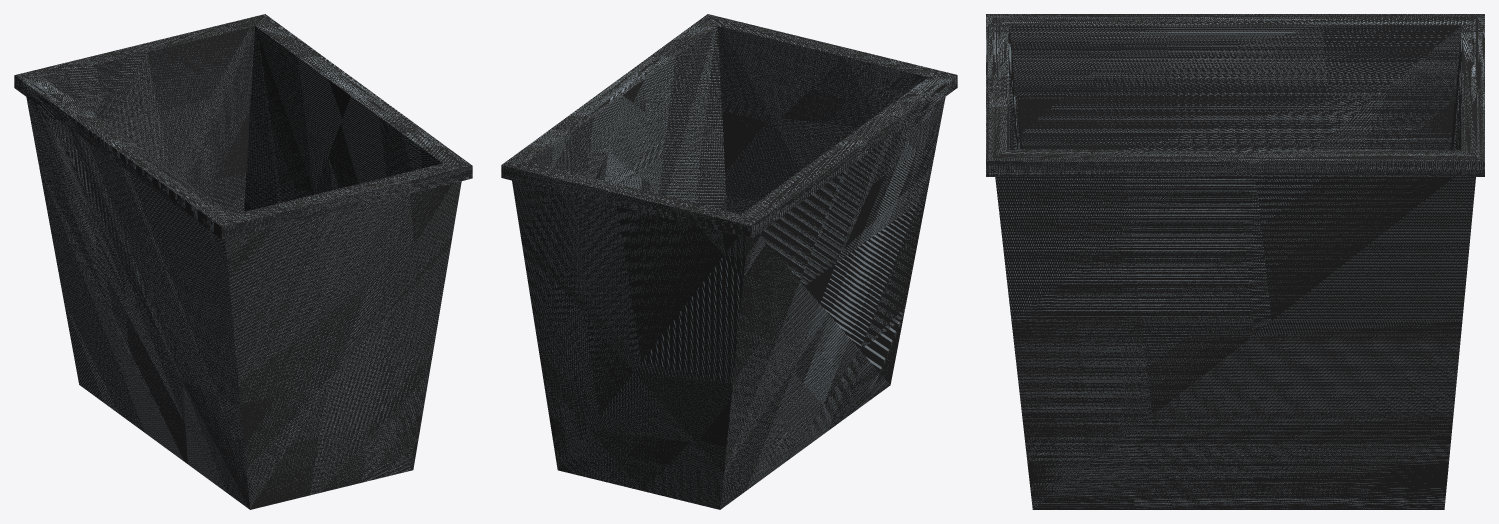
Rendered from trashcan.dae.
The picture shows the model from 3 angles, left to right: view 1: azimuth 30°, elevation 25°; view 2: azimuth 150°, elevation 25°; view 3: azimuth 270°, elevation 25°; orthographic projection. The views are drawn at different scales.
Visible parts, largest first — view 1: AHS_trash_small (×3); view 2: AHS_trash_small (×3); view 3: AHS_trash_small (×3).
Boxes of the visible parts, left/top/right/bottom form: AHS_trash_small (×3): left=14, top=14, right=472, bottom=509; AHS_trash_small (×3): left=501, top=14, right=957, bottom=509; AHS_trash_small (×3): left=986, top=14, right=1484, bottom=509.
Size of the model in its own units: 10.2 by 14.59 by 12.
